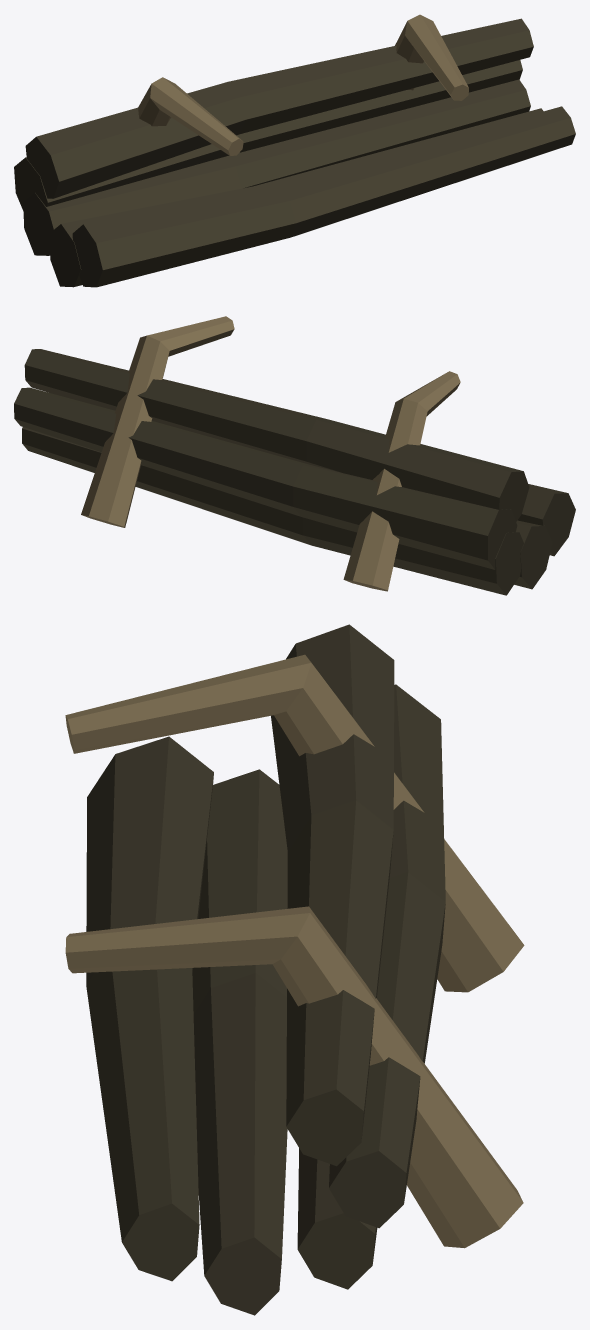
The model's file is strange_thrumroot_shell.glb.
3 views of the same model, one above another, from view 1: azimuth 30°, elevation 25°; view 2: azimuth 150°, elevation 25°; view 3: azimuth 270°, elevation 25° (orthographic). The views are drawn at different scales.
Parts seen in each view (by area): view 1: strange_thrumroot_shell; view 2: strange_thrumroot_shell; view 3: strange_thrumroot_shell.
Part boxes in pixels (left/top/right/bottom): strange_thrumroot_shell: left=14, top=14, right=575, bottom=287; strange_thrumroot_shell: left=14, top=316, right=575, bottom=595; strange_thrumroot_shell: left=65, top=624, right=524, bottom=1315.
Size of the model in its own units: 3.02 by 1.03 by 1.24.
